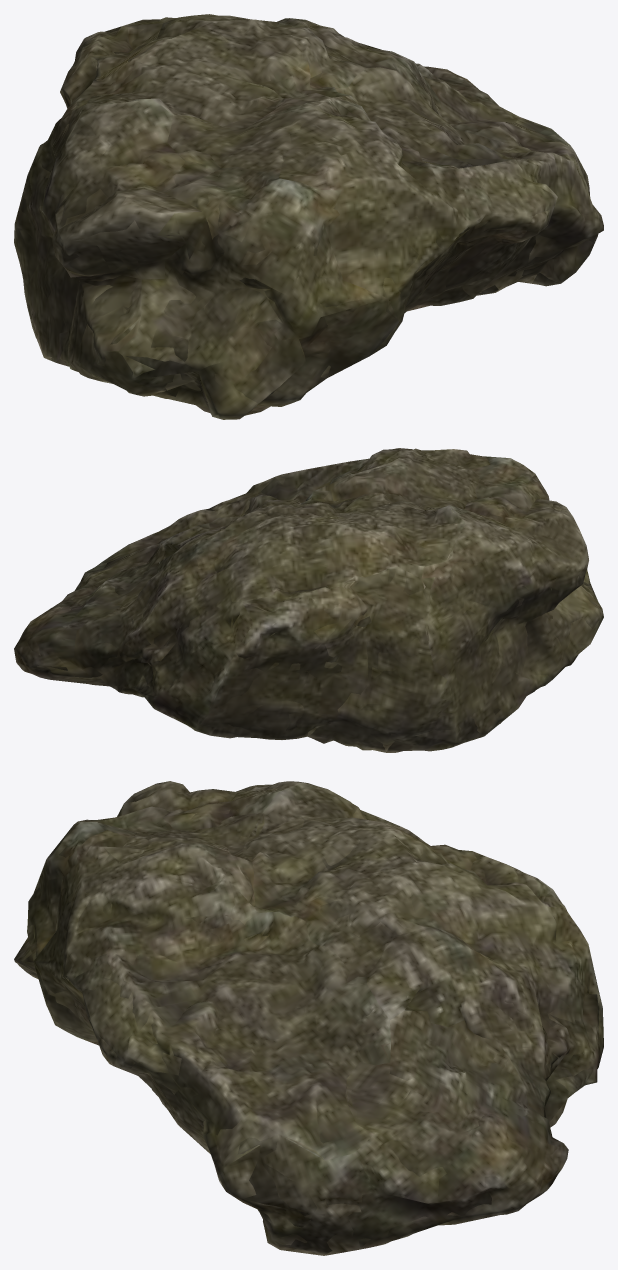
File: rock_moss_set_02_rock12.glb
The picture shows the model from 3 angles, top to bottom: view 1: azimuth 30°, elevation 25°; view 2: azimuth 150°, elevation 25°; view 3: azimuth 270°, elevation 25°; orthographic projection. The views are drawn at different scales.
Visible parts, largest first — view 1: rock_moss_set_02_rock12__lod0, rock_moss_set_02_rock12__lodS; view 2: rock_moss_set_02_rock12__lod0, rock_moss_set_02_rock12__lodS; view 3: rock_moss_set_02_rock12__lod0, rock_moss_set_02_rock12__lodS.
Boxes of the visible parts, x1=… form: rock_moss_set_02_rock12__lod0: x1=16, y1=14, x2=603, y2=419; rock_moss_set_02_rock12__lodS: x1=14, y1=16, x2=602, y2=416; rock_moss_set_02_rock12__lod0: x1=14, y1=448, x2=603, y2=752; rock_moss_set_02_rock12__lodS: x1=15, y1=449, x2=603, y2=752; rock_moss_set_02_rock12__lod0: x1=14, y1=781, x2=603, y2=1255; rock_moss_set_02_rock12__lodS: x1=14, y1=781, x2=599, y2=1255.
Bounding box in the file's own units: 1.58 × 0.736 × 1.44.
Materials: 1 (1 with a texture image).
